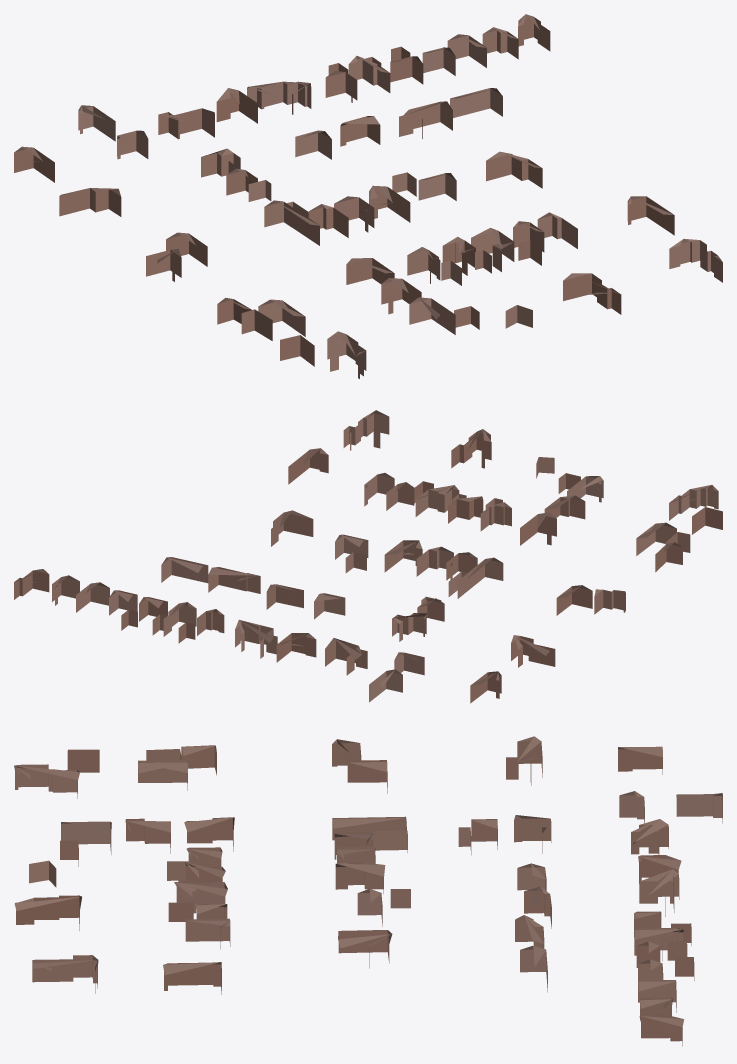
File: c_1647_17826_buildings_residential.glb
3 views of the same model, one above another, from view 1: azimuth 30°, elevation 25°; view 2: azimuth 150°, elevation 25°; view 3: azimuth 270°, elevation 25° (orthographic). The views are drawn at different scales.
Visible parts, largest first — view 1: geometry_0; view 2: geometry_0; view 3: geometry_0.
Part boxes in pixels (left/top/right/bottom): geometry_0: left=14, top=14, right=722, bottom=378; geometry_0: left=14, top=410, right=722, bottom=703; geometry_0: left=14, top=736, right=722, bottom=1046.
Size of the model in its own units: 253 by 10.94 by 265.
